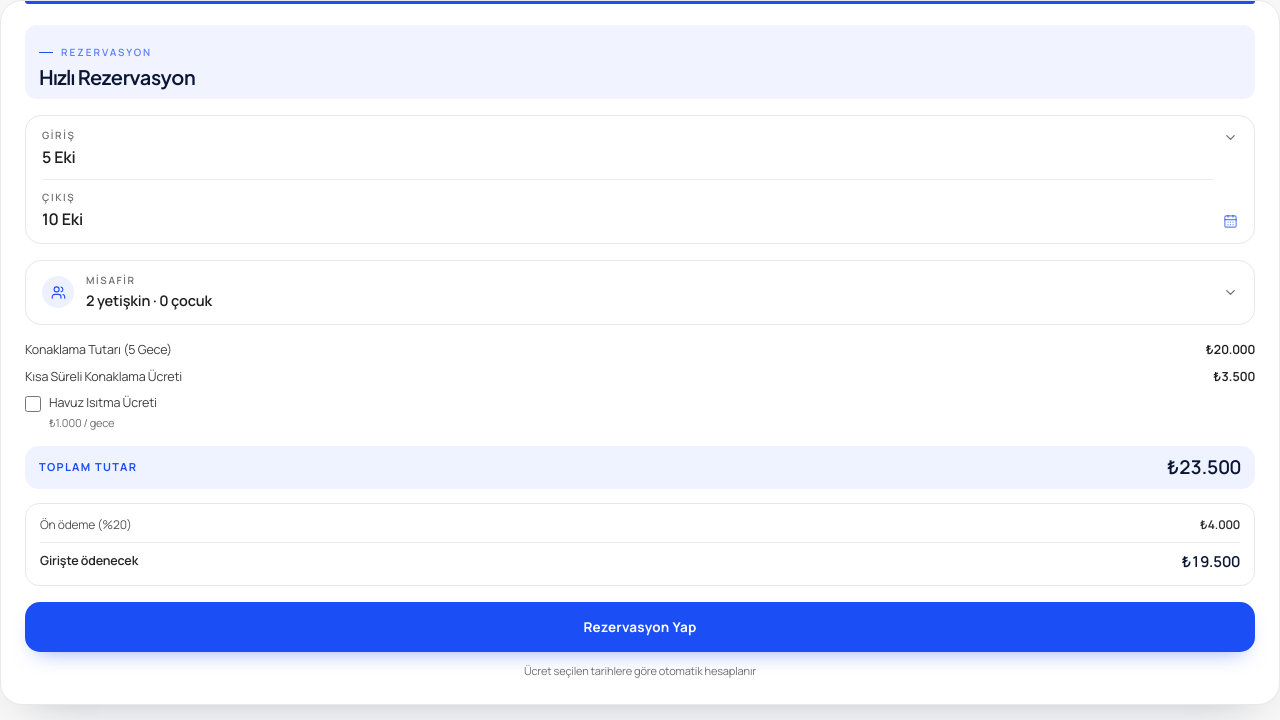
Test: BookingSidebar — havuz ısıtma UI (5. adım) › 5) checkbox işareti kaldırılınca seçim false olur ve çalışma toplamı kaybolur
Step 1. Click the checkbox labelled "Havuz Isıtma Ücreti" → (33, 404), box [25,396,41,412]
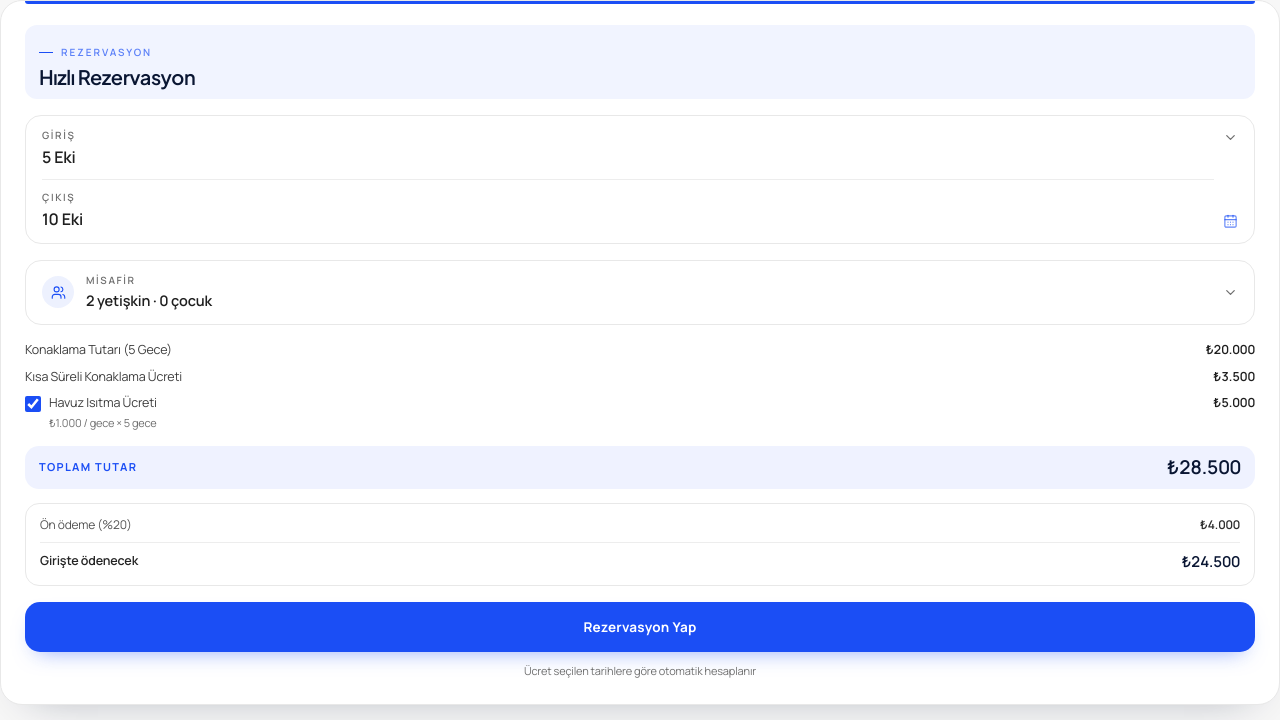
expect the checkbox labelled "Havuz Isıtma Ücreti ₺5.000" is checked: met
expect the text "₺5.000" is shown: met, box [1213,394,1255,413]
Step 2. Click the checkbox labelled "Havuz Isıtma Ücreti ₺5.000" → (33, 404), box [25,396,41,412]
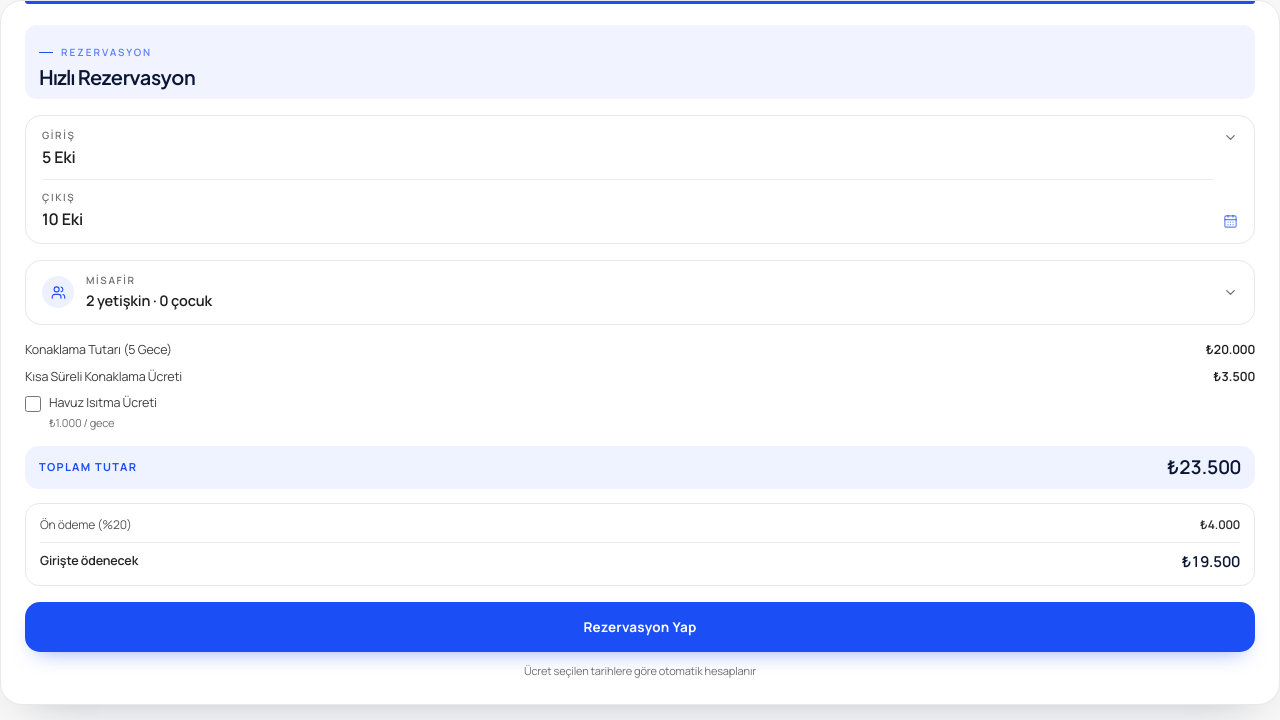
expect the checkbox labelled "Havuz Isıtma Ücreti" is not checked: met, box [25,396,41,412]
expect the text "₺5.000" is gone: met
